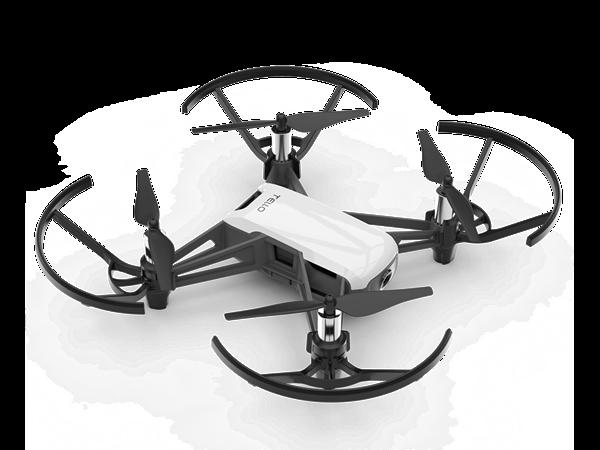drone: (36, 66, 574, 405)
